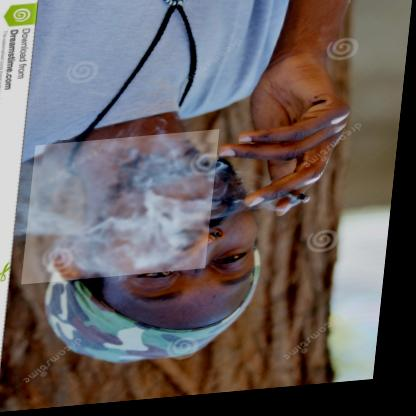smoke: (27, 134, 223, 285)
